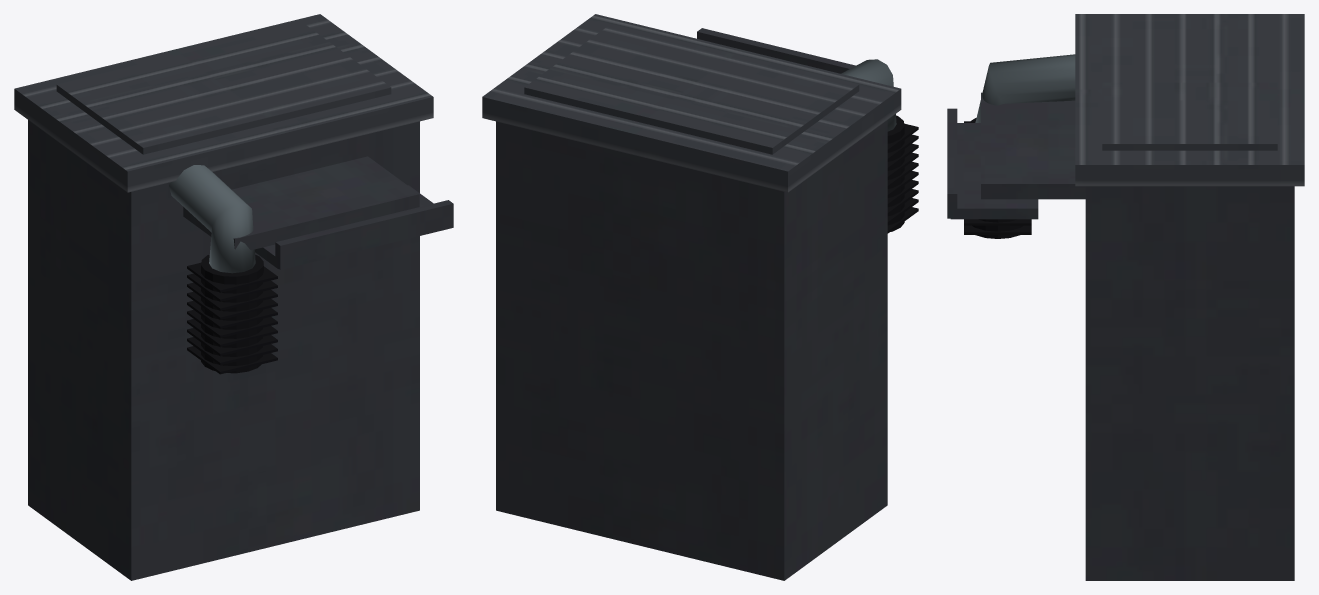
File: prop_filter.glb
3 renders of one model, left to right at view 1: azimuth 30°, elevation 25°; view 2: azimuth 150°, elevation 25°; view 3: azimuth 270°, elevation 25°, orthographic.
Parts seen in each view (by area): view 1: body, lid, strainer, pipe; view 2: body, lid, strainer, pipe; view 3: body, lid, pipe, strainer.
Part boxes in pixels (<box>): body: <box>28,120,453,580</box>; lid: <box>14,14,433,192</box>; strainer: <box>187,254,277,374</box>; pipe: <box>169,165,255,273</box>; body: <box>496,28,887,580</box>; lid: <box>482,14,901,192</box>; strainer: <box>887,115,918,233</box>; pipe: <box>841,59,896,131</box>; body: <box>947,92,1294,580</box>; lid: <box>1075,14,1304,186</box>; pipe: <box>975,54,1075,122</box>; strainer: <box>964,118,1031,238</box>.
Bounding box in the file's own units: 10.6 × 13.98 × 10.6.
Materials: 4 (2 with a texture image).
